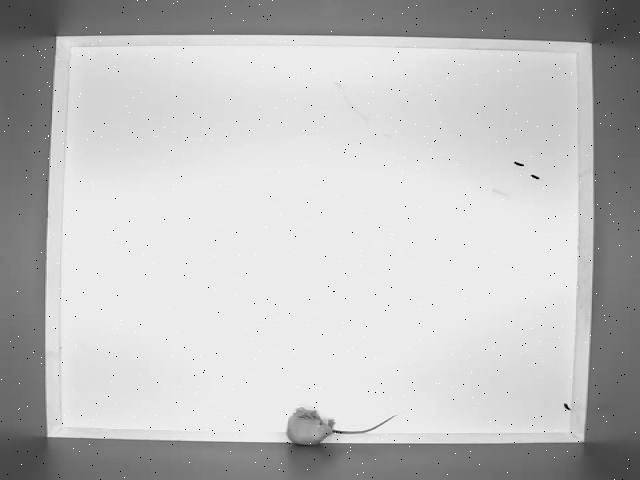Tikus: (285, 404, 393, 448)
